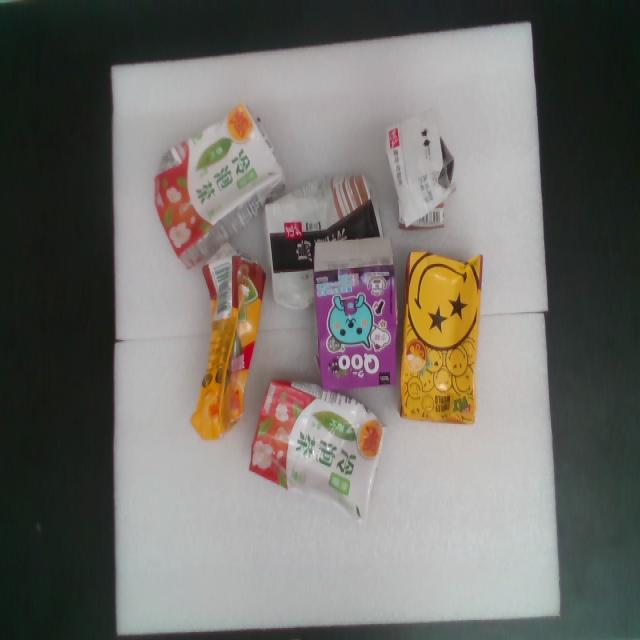juicebox: (112, 93, 317, 289), (224, 362, 409, 527), (236, 166, 400, 322), (171, 239, 281, 459), (298, 229, 409, 417), (397, 246, 494, 431), (373, 96, 468, 246)
